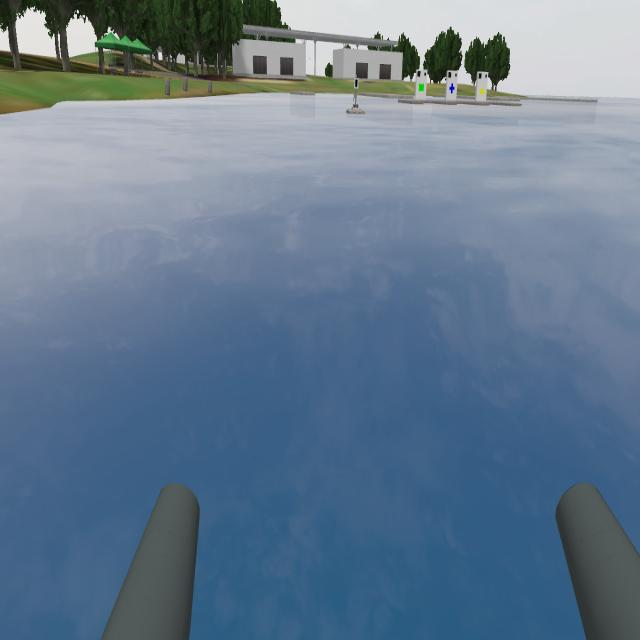black_pole: (351, 74, 365, 95)
